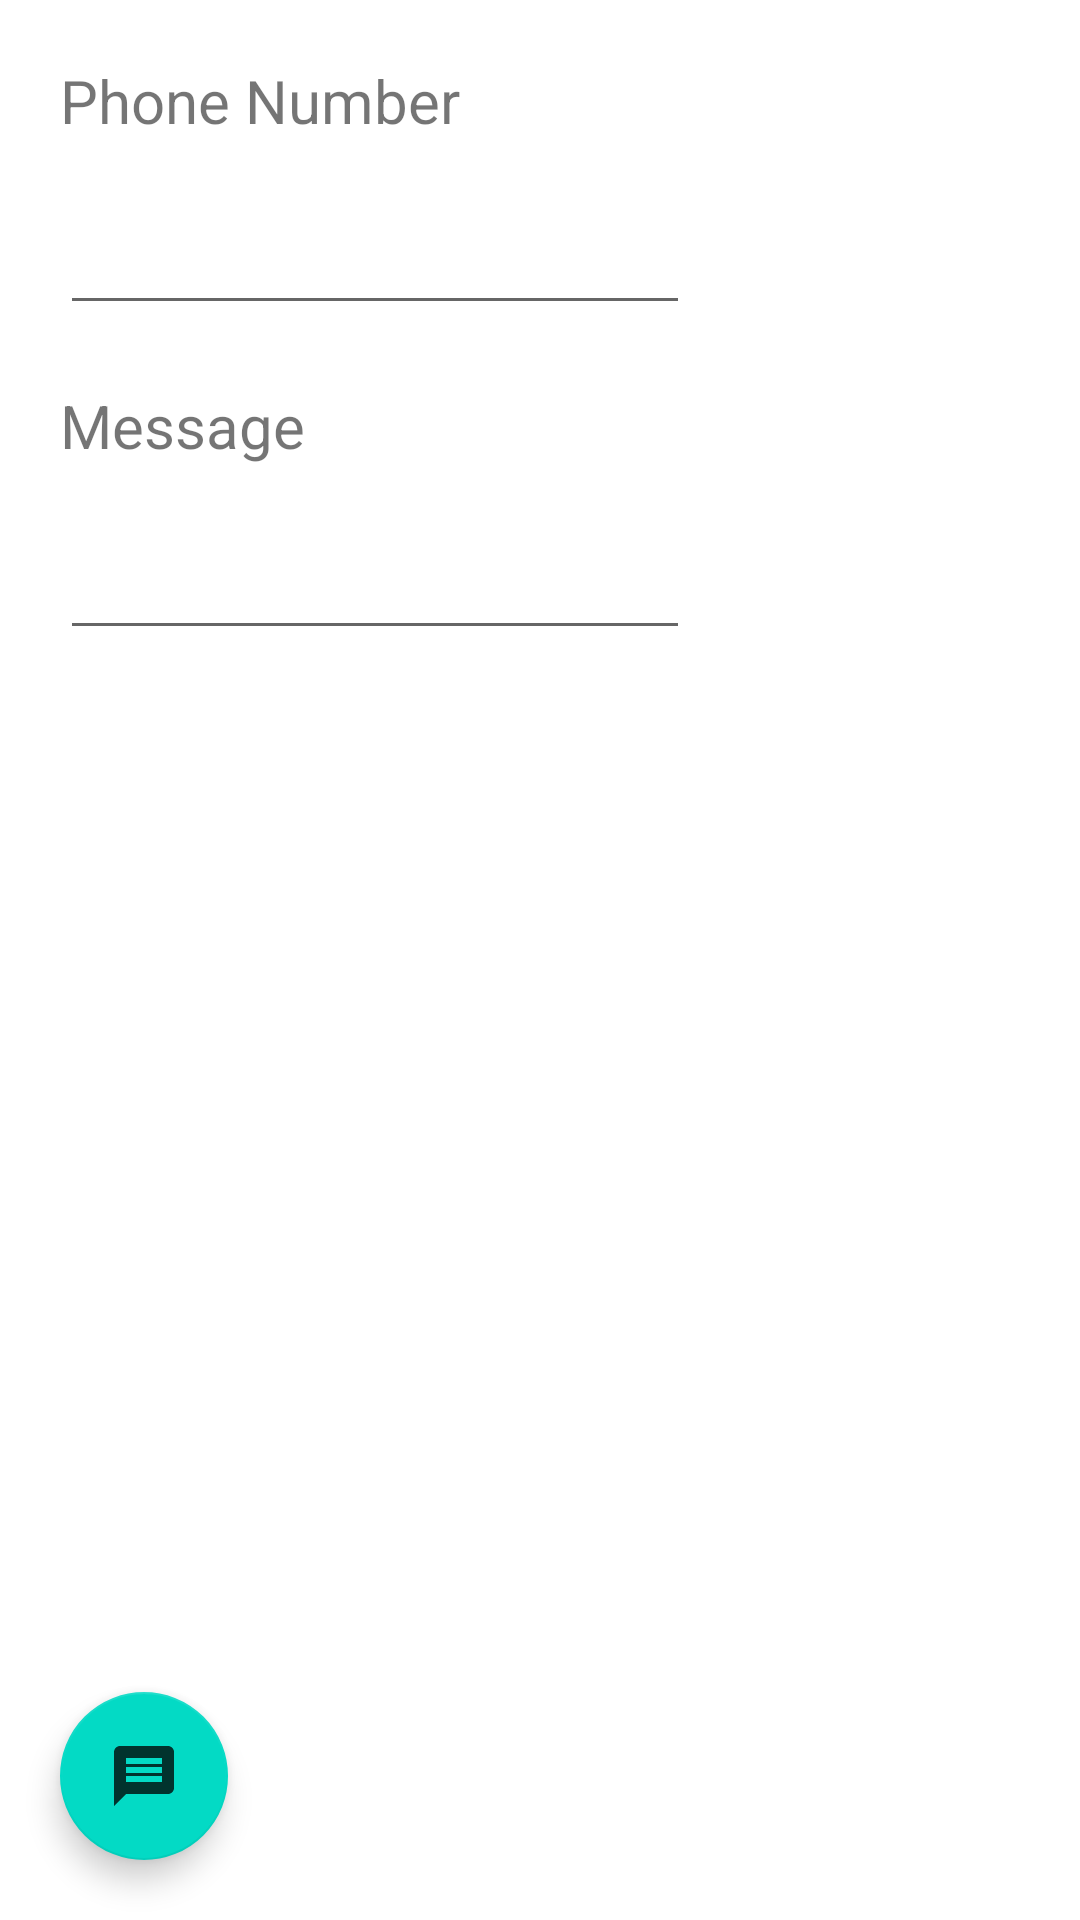

Named icons in this screenshot (1080w x 1920h) and their bounding boxes, rect(x1, y1, x2, y2):
message: rect(60, 1692, 228, 1860)
